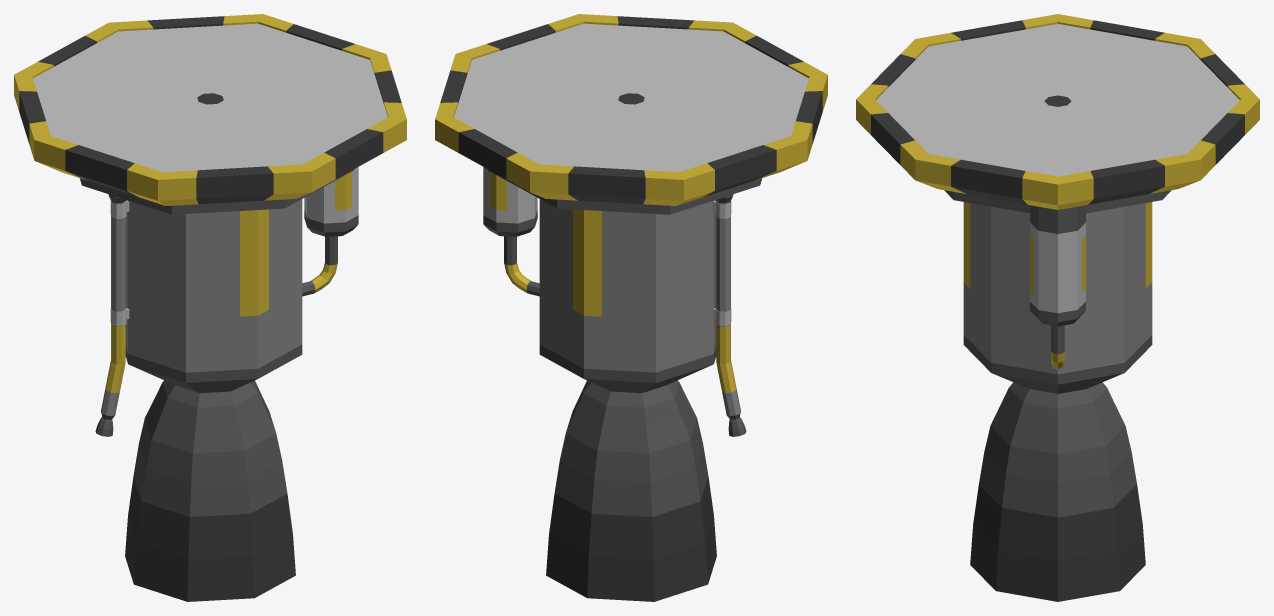
Rendered from MainEngine.fbx.
3 views of the same model, side by side, from view 1: azimuth 30°, elevation 25°; view 2: azimuth 150°, elevation 25°; view 3: azimuth 270°, elevation 25° (orthographic).
Visible parts, largest first — view 1: LiquidFuelEngine_Medium_1; view 2: LiquidFuelEngine_Medium_1; view 3: LiquidFuelEngine_Medium_1.
Boxes of the visible parts, x1,y1,x2,y2 form: LiquidFuelEngine_Medium_1: (14, 14, 406, 601); LiquidFuelEngine_Medium_1: (435, 14, 827, 601); LiquidFuelEngine_Medium_1: (856, 14, 1259, 601).
Bounding box in the file's own units: 200 × 254 × 200.
